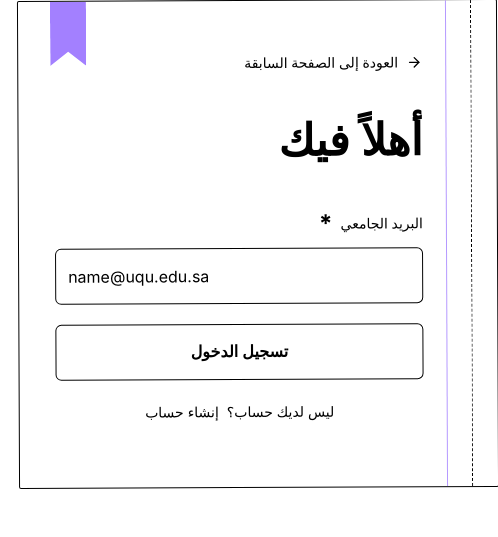
Test: SignInFlow (against the MSW mocks) › shows the server refusal of a non-university address on the email field
Type "someone@gmail.com" into the field labelled "البريد الجامعي *".
click(239, 276); type("someone@gmail.com")  # box [55,247,423,305]
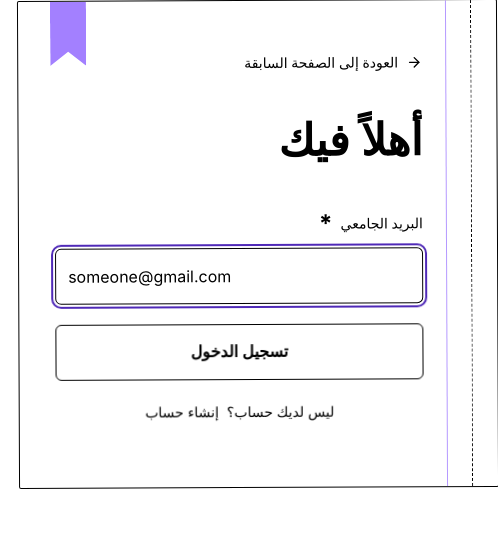
Click the button "تسجيل الدخول".
click(240, 352)  # box [55,323,424,381]
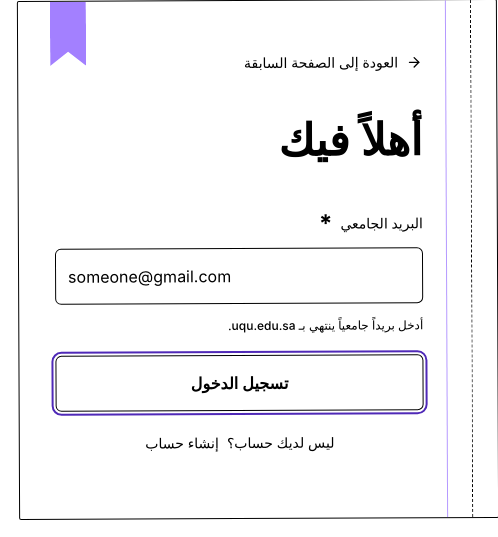
Result: the text "أدخل بريداً جامعياً ينتهي بـ uqu.edu.sa." is shown at [228,317,423,333]
